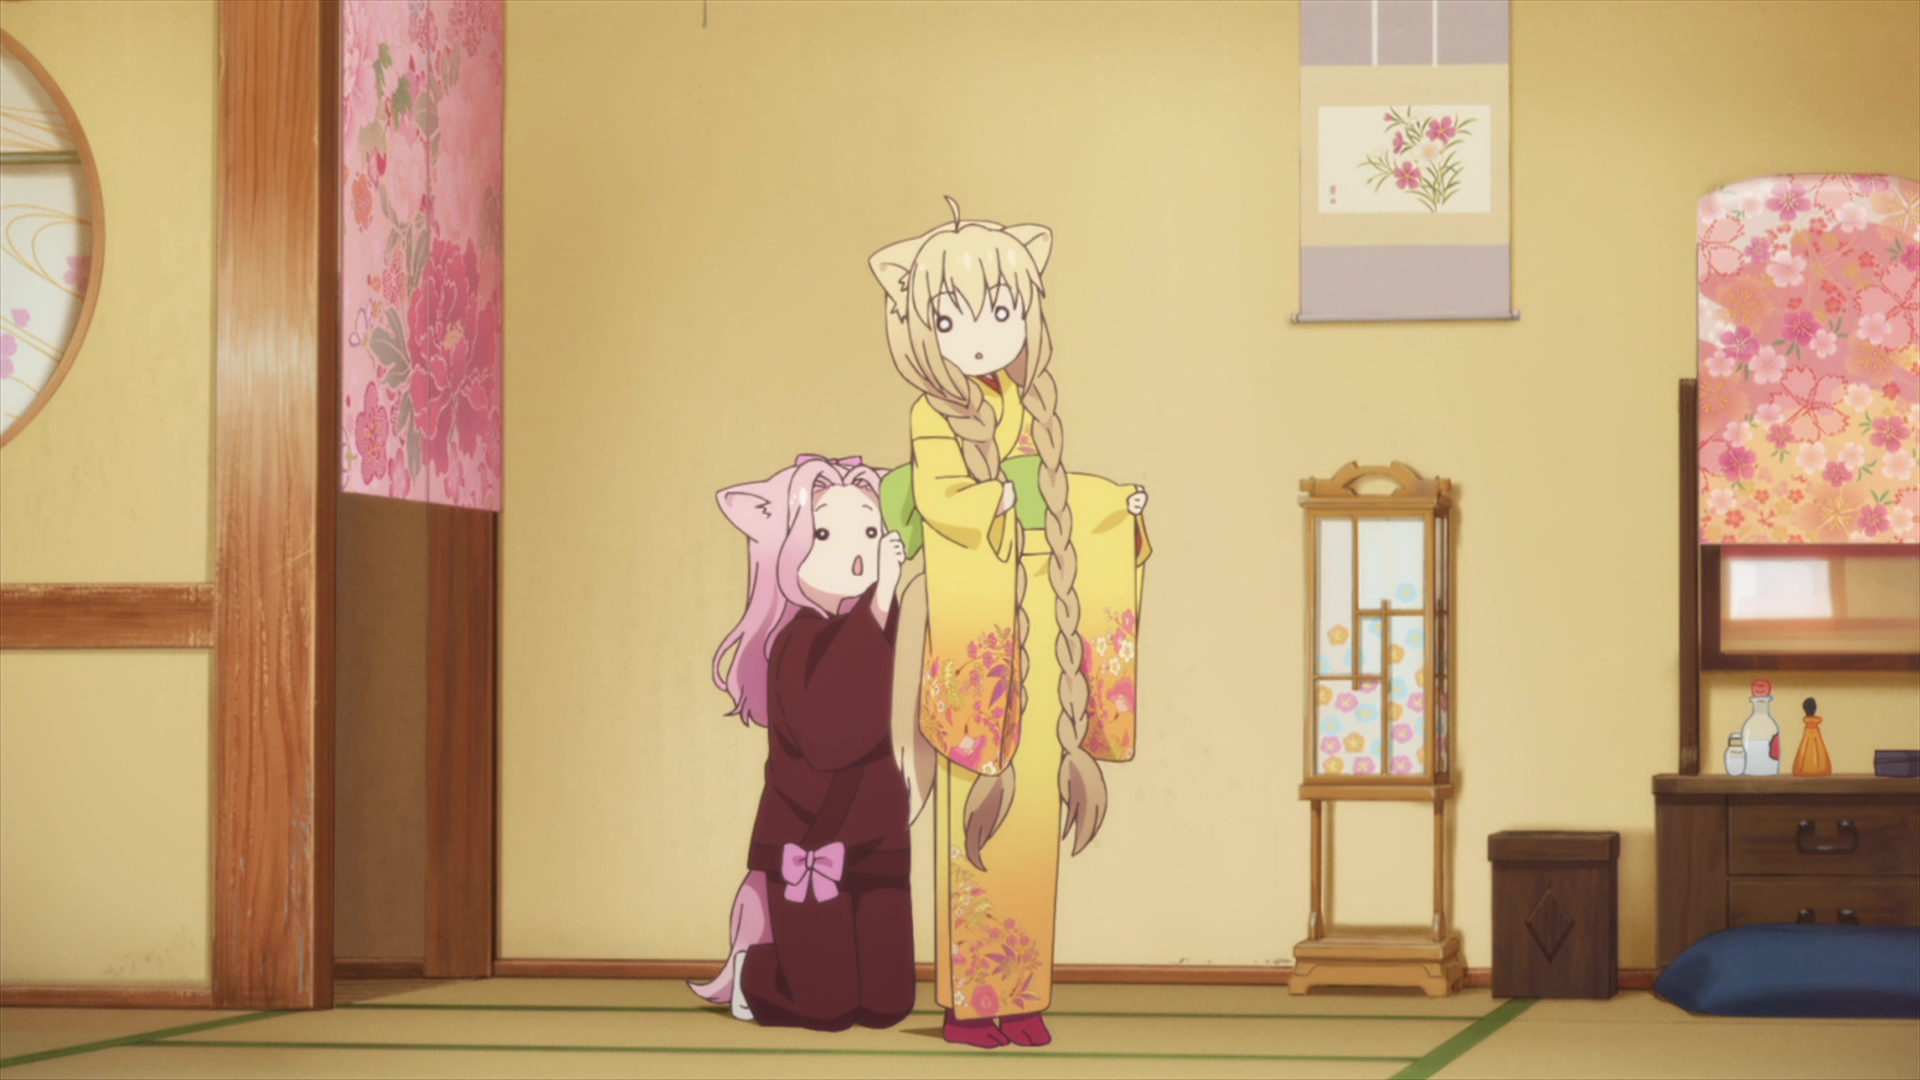柚: (872, 193, 1151, 1048)
莲: (686, 454, 916, 1034)
